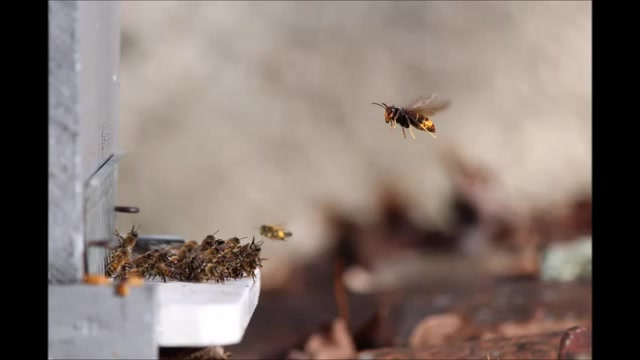bee: (242, 248, 263, 278), (201, 260, 225, 283), (178, 236, 202, 259), (132, 257, 162, 275), (118, 231, 140, 255), (157, 262, 187, 279), (221, 234, 240, 257), (196, 234, 217, 254), (107, 252, 122, 276)
hornet: (376, 102, 447, 139), (255, 224, 294, 242)
